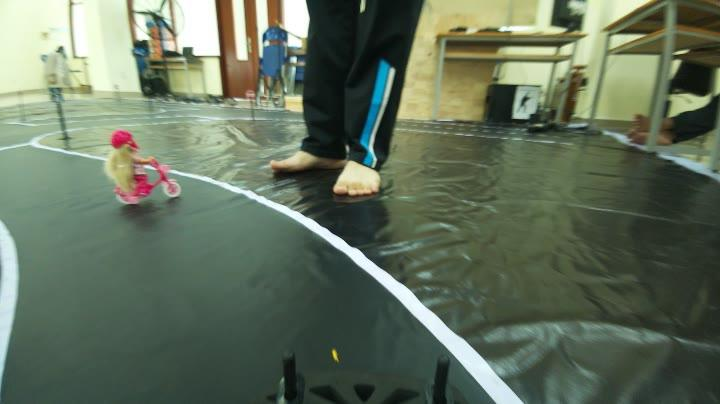pedestrian: (82, 121, 185, 206)
